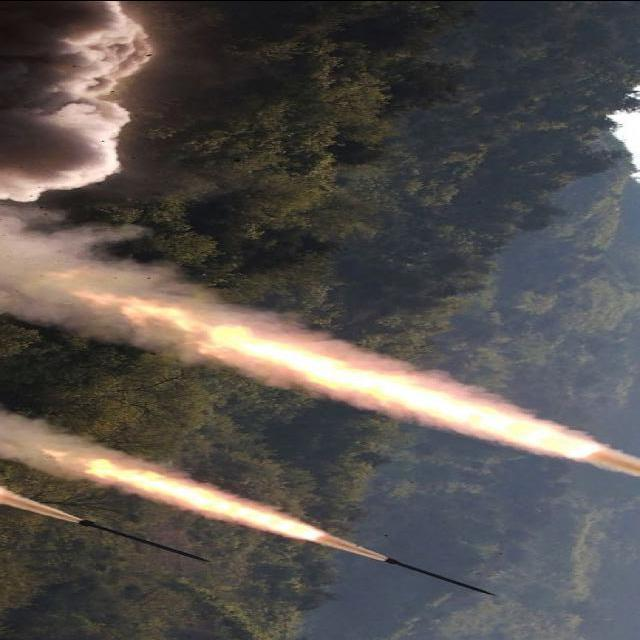missile: (80, 512, 213, 567), (378, 546, 504, 604)
